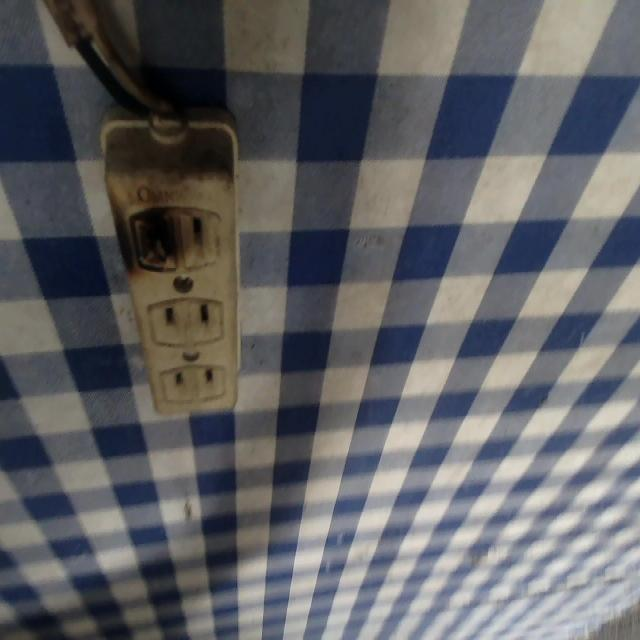-: (123, 202, 183, 278)
